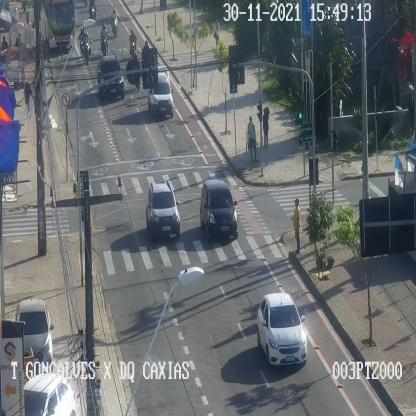bus: (38, 0, 76, 62)
car: (257, 292, 306, 364), (16, 299, 52, 371), (199, 179, 237, 238), (23, 374, 76, 416), (146, 182, 180, 237), (148, 65, 173, 116), (97, 55, 124, 98)
motorbike: (82, 30, 92, 64), (111, 5, 119, 38), (100, 23, 108, 55), (78, 27, 86, 57), (129, 28, 137, 58), (134, 53, 140, 91)
person: (292, 199, 300, 253), (247, 116, 256, 161), (24, 81, 32, 116), (262, 110, 268, 147), (214, 17, 220, 48)
